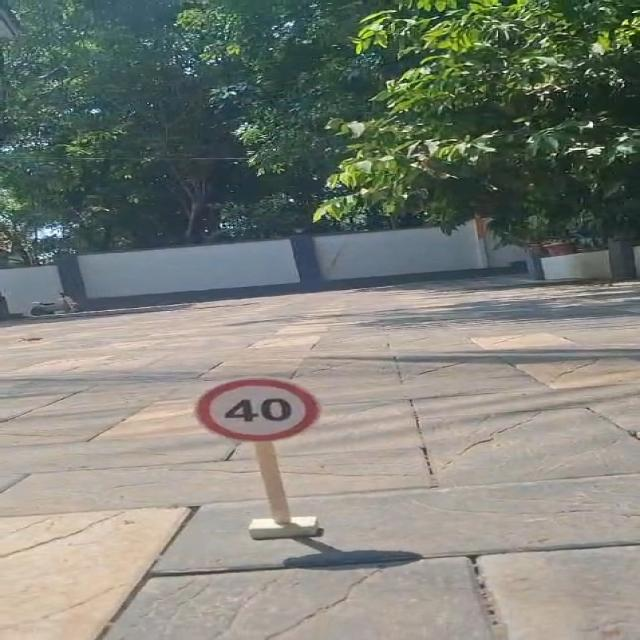Speed40: (191, 375, 326, 444)
